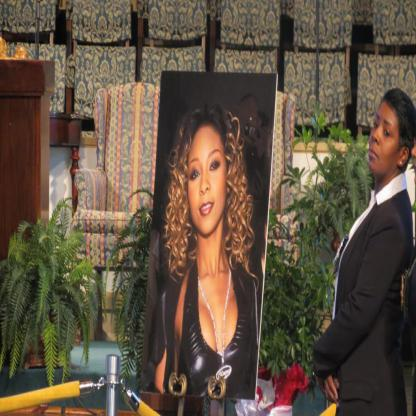face: (188, 128, 225, 229), (371, 100, 399, 175)
